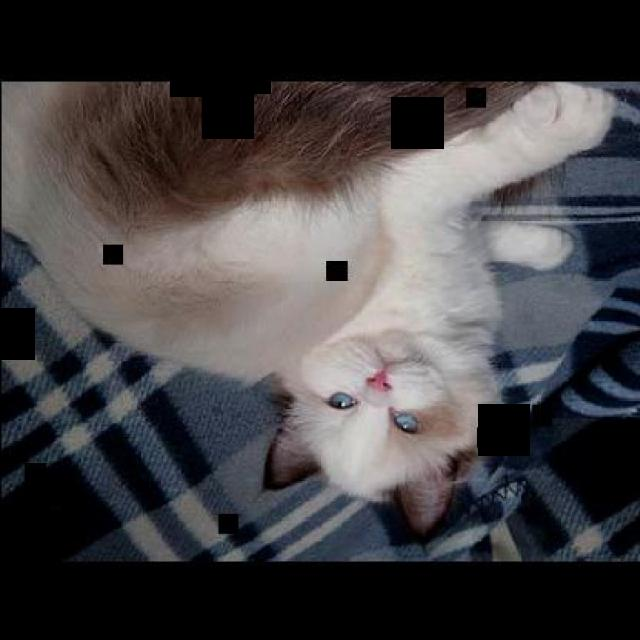unauthorized: (0, 78, 620, 536)
